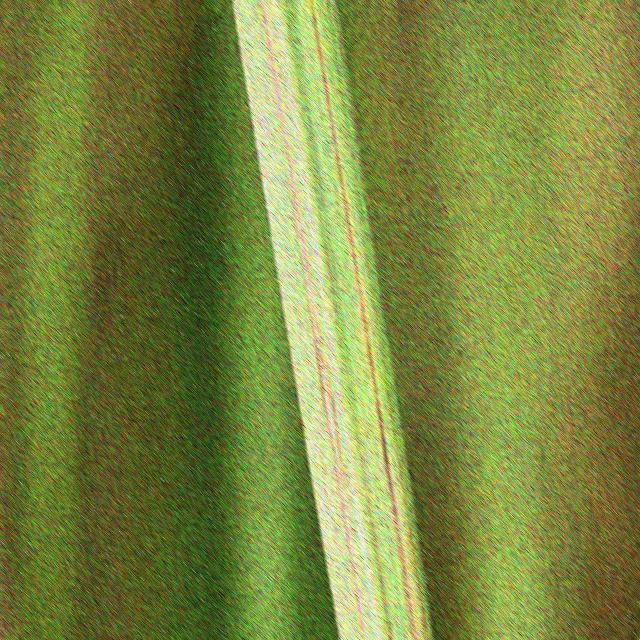BLS: (307, 0, 419, 640), (258, 0, 369, 640), (356, 426, 392, 640), (397, 455, 427, 640), (269, 0, 298, 165)
